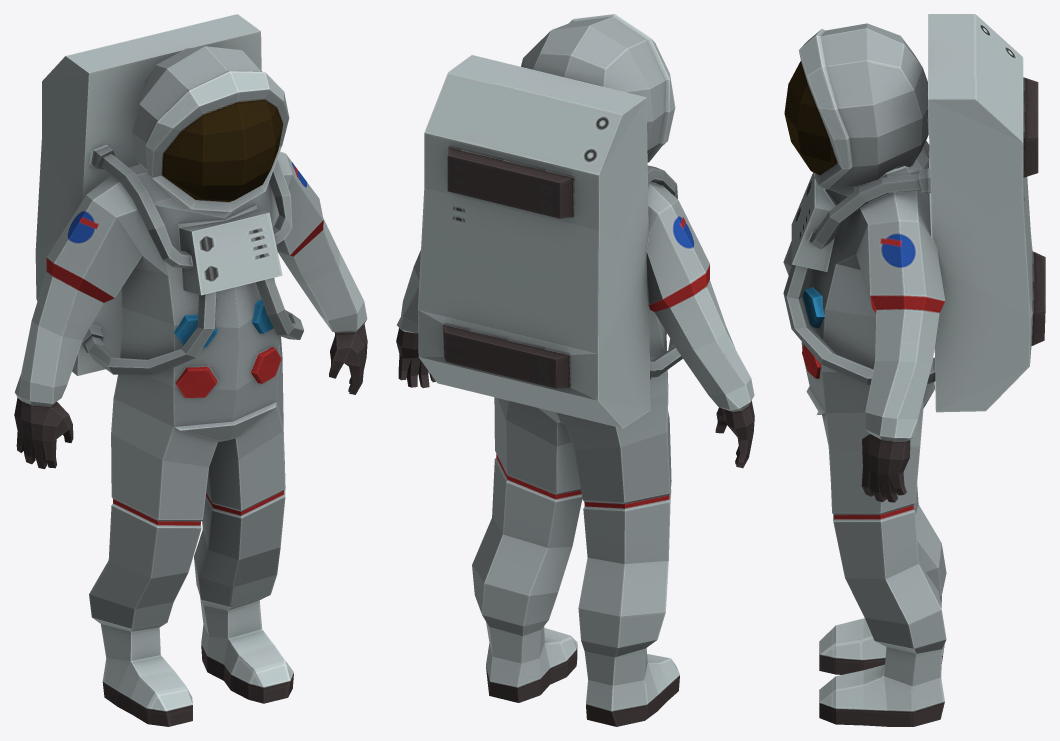
The model's file is astraunat.glb.
The picture shows the model from 3 angles, left to right: view 1: azimuth 30°, elevation 25°; view 2: azimuth 150°, elevation 25°; view 3: azimuth 270°, elevation 25°; orthographic projection.
Visible parts, largest first — view 1: Astronaut_mesh; view 2: Astronaut_mesh; view 3: Astronaut_mesh.
Part boxes in pixels (<box>): Astronaut_mesh: <box>14,14,367,726</box>; Astronaut_mesh: <box>396,14,754,726</box>; Astronaut_mesh: <box>783,14,1045,726</box>.
Bounding box in the file's own units: 2.24 × 4.02 × 1.45.
Materials: 1 (1 with a texture image).
